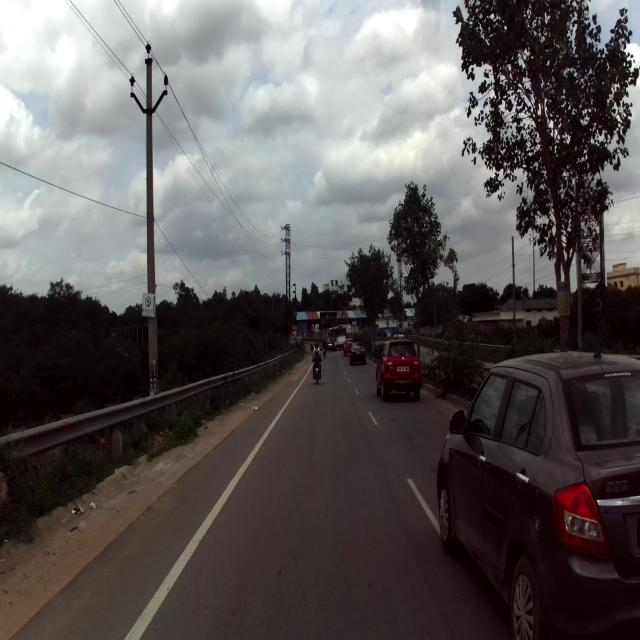car: (435, 340, 639, 639), (376, 337, 423, 403)
